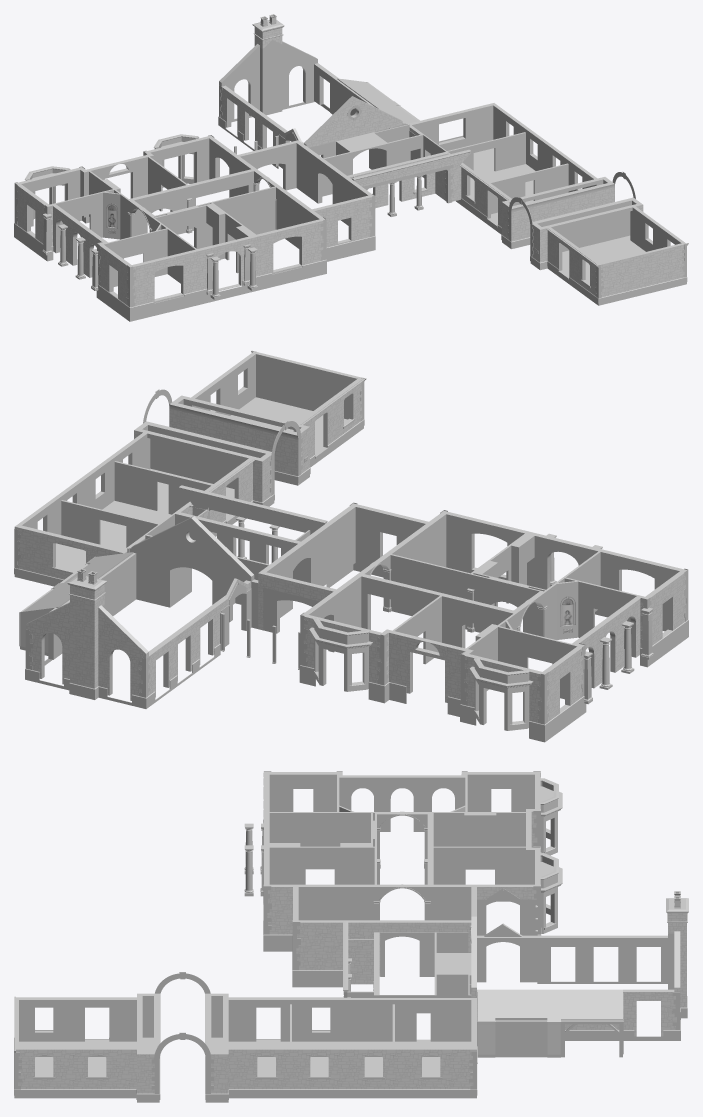
Rendered from Storey__GroundFloor__ProposedWalls__MeshModel__.glb.
The picture shows the model from 3 angles, top to bottom: view 1: azimuth 30°, elevation 25°; view 2: azimuth 150°, elevation 25°; view 3: azimuth 270°, elevation 25°; orthographic projection. The views are drawn at different scales.
Parts seen in each view (by area): view 1: 21__ProposedBuilding__Walls::Default, 21__ProposedBuilding__Walls::MAT000E__Masonry__StoneworkPatt, 76__LineworkModifier__FineDetail__Walls::Default; view 2: 21__ProposedBuilding__Walls::Default, 21__ProposedBuilding__Walls::MAT000E__Masonry__StoneworkPatt, 76__LineworkModifier__FineDetail__Walls::Default, 77__LineworkModifier__FineDetail__WindowsAndJoinery::Default; view 3: 21__ProposedBuilding__Walls::Default, 21__ProposedBuilding__Walls::MAT000E__Masonry__StoneworkPatt, 76__LineworkModifier__FineDetail__Walls::Default, 77__LineworkModifier__FineDetail__WindowsAndJoinery::Default, 79__LineworkModifier__VeryFineDetail__WindowsAndJoinery::Def.
Part boxes in pixels (<box>): 21__ProposedBuilding__Walls::Default: <box>16,40,688,305</box>; 21__ProposedBuilding__Walls::MAT000E__Masonry__StoneworkPatt: <box>16,27,684,305</box>; 76__LineworkModifier__FineDetail__Walls::Default: <box>14,20,687,321</box>; 21__ProposedBuilding__Walls::Default: <box>14,350,686,730</box>; 21__ProposedBuilding__Walls::MAT000E__Masonry__StoneworkPatt: <box>14,383,686,722</box>; 76__LineworkModifier__FineDetail__Walls::Default: <box>14,389,688,742</box>; 77__LineworkModifier__FineDetail__WindowsAndJoinery::Default: <box>19,556,95,652</box>; 21__ProposedBuilding__Walls::Default: <box>14,772,680,1102</box>; 21__ProposedBuilding__Walls::MAT000E__Masonry__StoneworkPatt: <box>16,811,686,1093</box>; 76__LineworkModifier__FineDetail__Walls::Default: <box>14,771,688,1099</box>; 77__LineworkModifier__FineDetail__WindowsAndJoinery::Default: <box>477,992,623,1057</box>; 79__LineworkModifier__VeryFineDetail__WindowsAndJoinery::Def: <box>497,1024,545,1057</box>.
Bounding box in the file's own units: 42.08 × 8.9 × 44.12.
4 materials, 2 textured.
